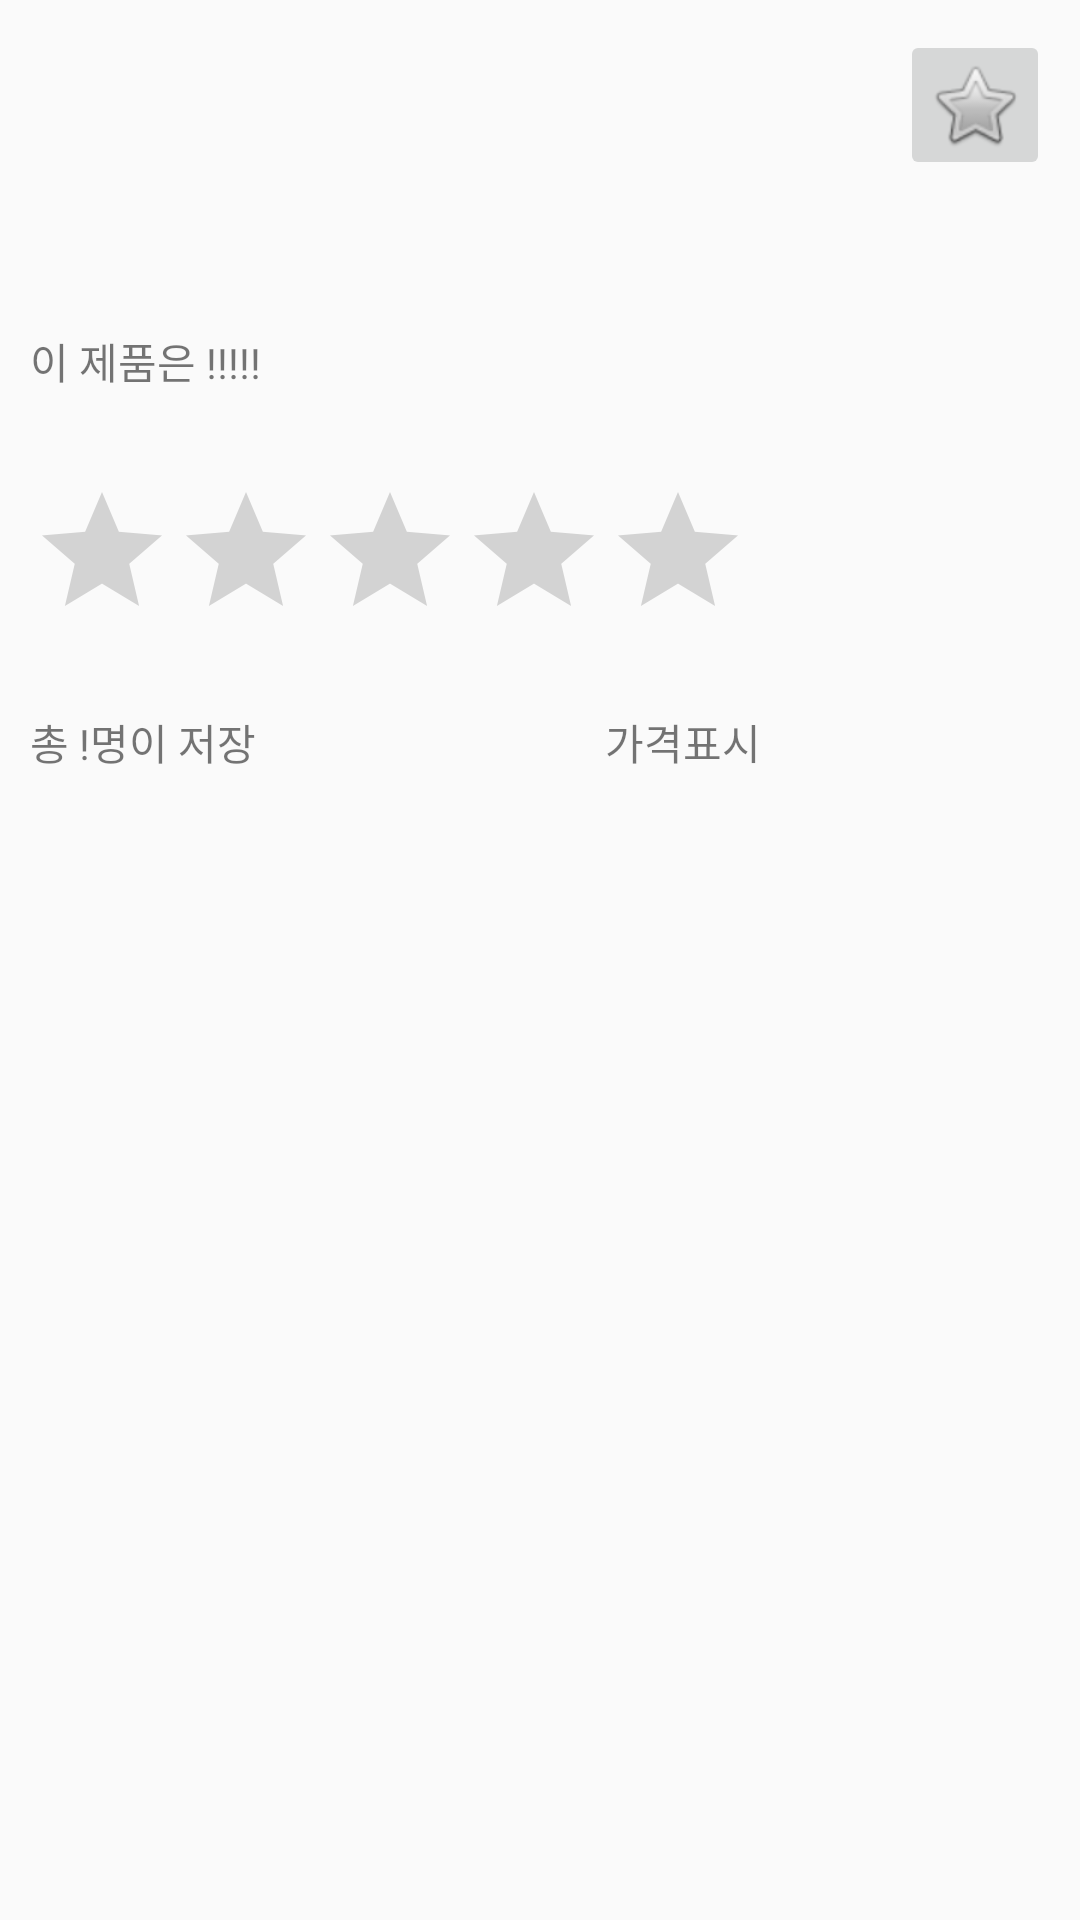

Icons on this 1080×1920 Android screen, each with the point to tap as (x,y):
star: (975,105)
